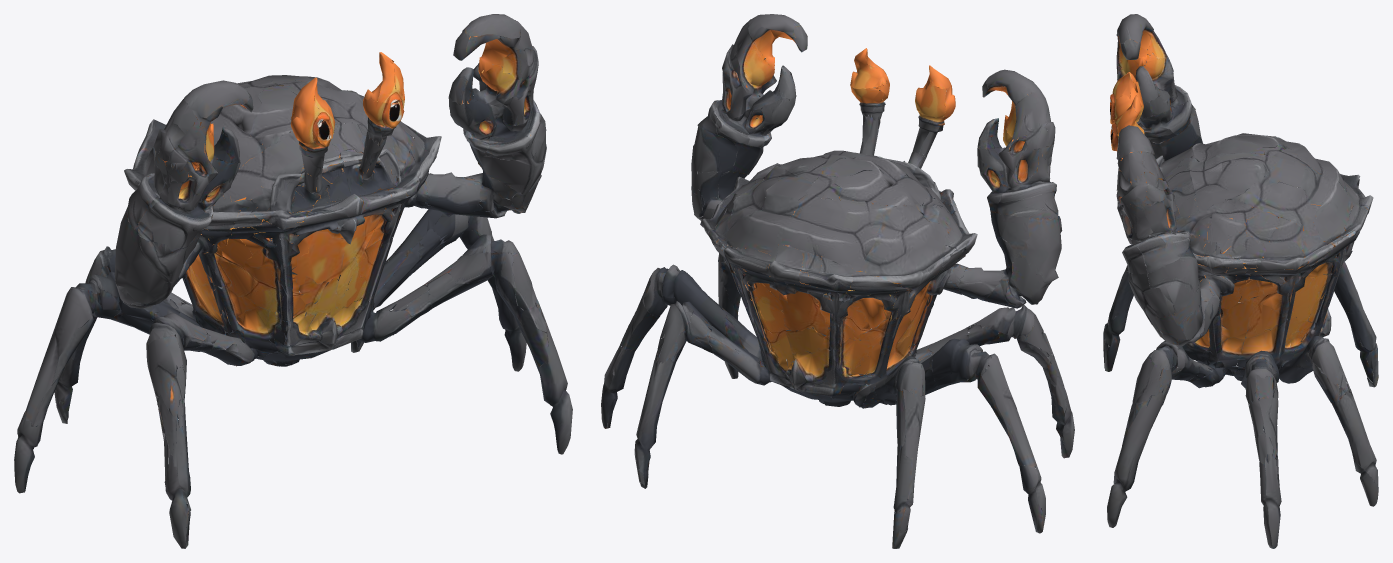
3 views of the same model, side by side, from view 1: azimuth 30°, elevation 25°; view 2: azimuth 150°, elevation 25°; view 3: azimuth 270°, elevation 25° (orthographic). The views are drawn at different scales.
Visible parts, largest first — view 1: Mesh_0; view 2: Mesh_0; view 3: Mesh_0.
Boxes of the visible parts, x1,y1,x2,y2 form: Mesh_0: (14,14,572,548); Mesh_0: (601,14,1074,548); Mesh_0: (1103,14,1378,548).
Size of the model in its own units: 1.9 by 1.57 by 1.05.
1 material, 1 textured.
